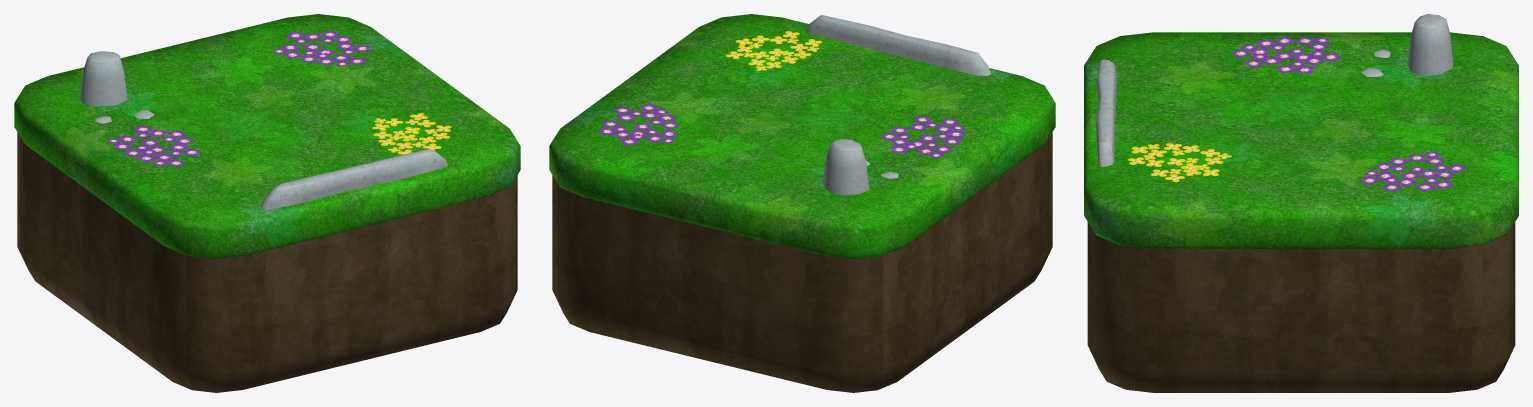
Rendered from HikeGardenGrassyBlock.fbx.
The picture shows the model from 3 angles, left to right: view 1: azimuth 30°, elevation 25°; view 2: azimuth 150°, elevation 25°; view 3: azimuth 270°, elevation 25°; orthographic projection. The views are drawn at different scales.
Visible parts, largest first — view 1: Plane, Plane.001, Plane.002, Plane.004, Plane.003; view 2: Plane, Plane.001, Plane.002, Plane.004, Plane.003; view 3: Plane, Plane.001, Plane.002, Plane.004, Plane.003.
Part boxes in pixels (x1,y1,x2,y2): Plane: [14, 14, 520, 258]; Plane.001: [17, 132, 517, 392]; Plane.002: [79, 51, 447, 209]; Plane.004: [107, 30, 370, 167]; Plane.003: [372, 113, 451, 154]; Plane: [549, 14, 1055, 258]; Plane.001: [552, 132, 1052, 392]; Plane.002: [806, 15, 991, 195]; Plane.004: [599, 104, 964, 158]; Plane.003: [726, 31, 822, 70]; Plane: [1084, 32, 1518, 248]; Plane.001: [1087, 222, 1515, 392]; Plane.002: [1096, 14, 1453, 166]; Plane.004: [1231, 36, 1466, 191]; Plane.003: [1128, 143, 1231, 182].
Size of the model in its own units: 100000 by 61849 by 100000.
Materials: 5 (5 with a texture image).
